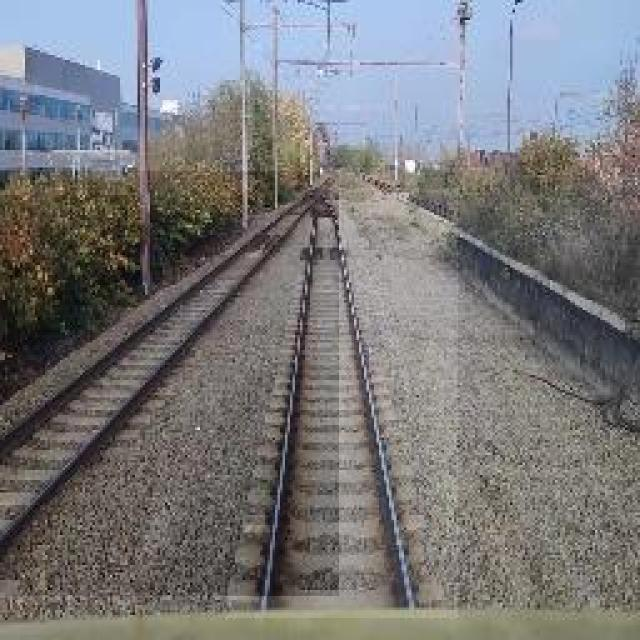rail: (1, 172, 340, 597), (226, 190, 459, 619)
